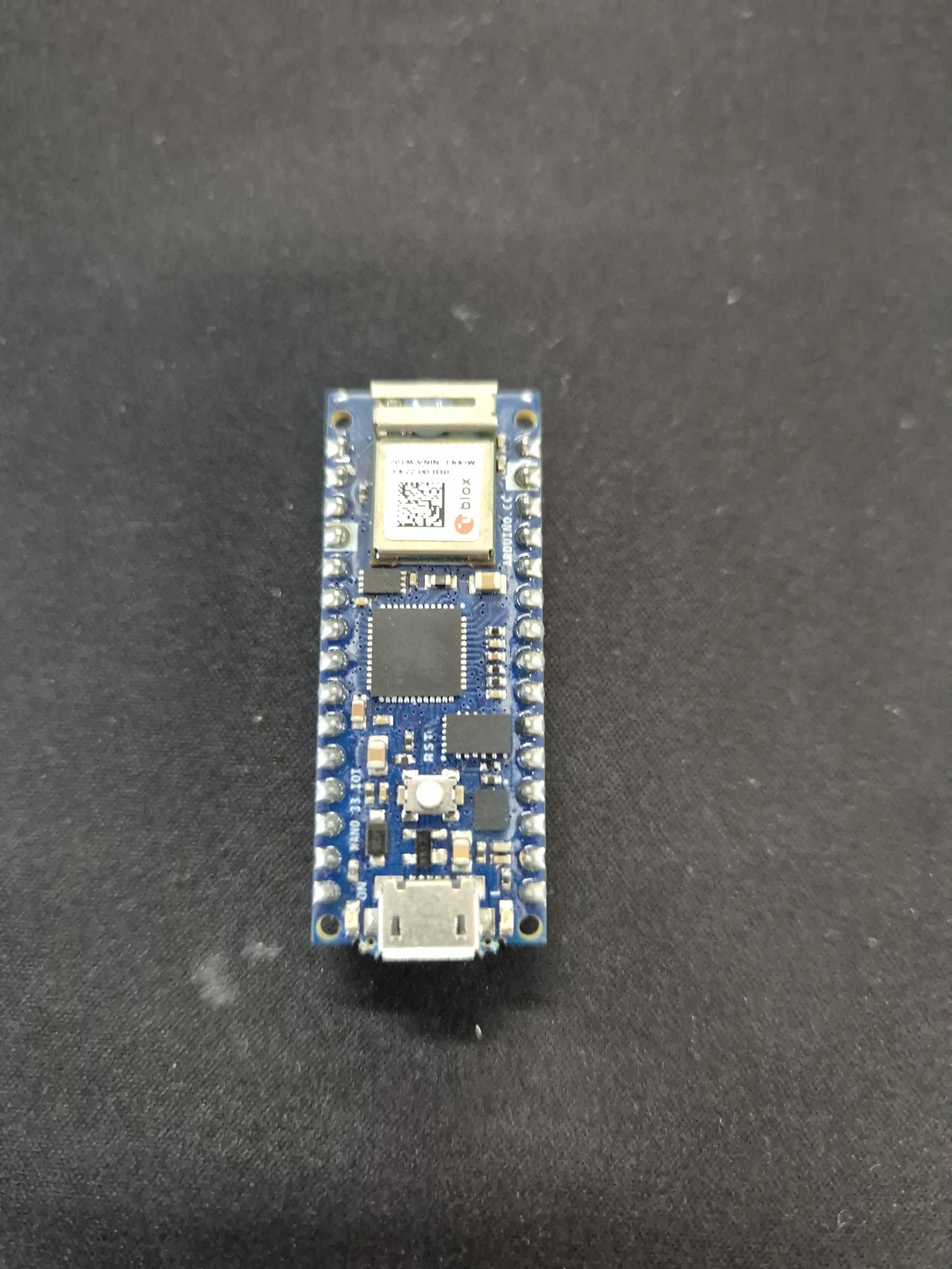arduino-nano-iot-33: (312, 381, 546, 961)
